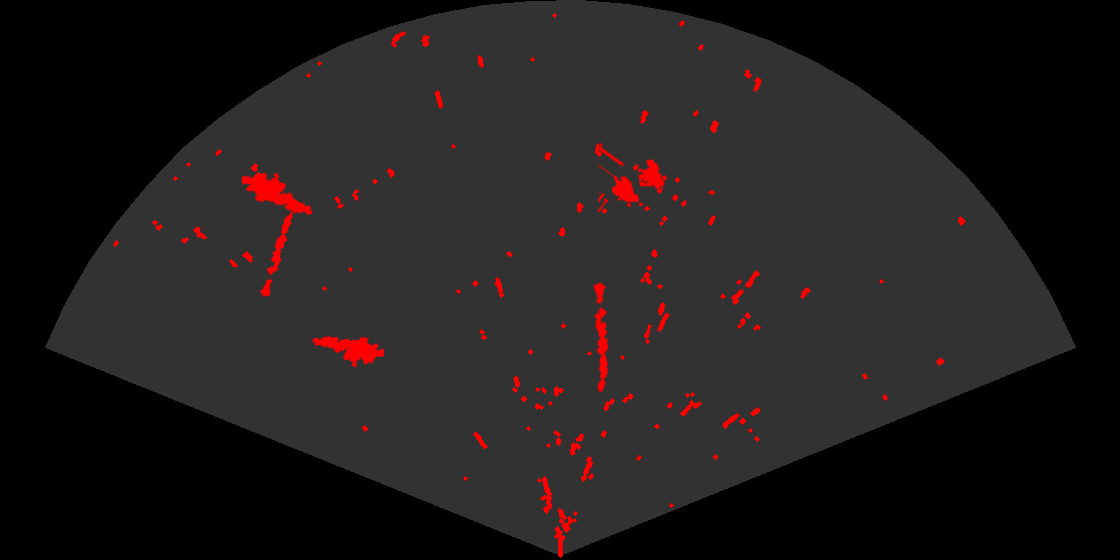cage: (598, 143, 666, 215)
chain: (258, 202, 300, 299), (592, 280, 610, 394)
frogman: (242, 170, 314, 216), (310, 335, 384, 369)
